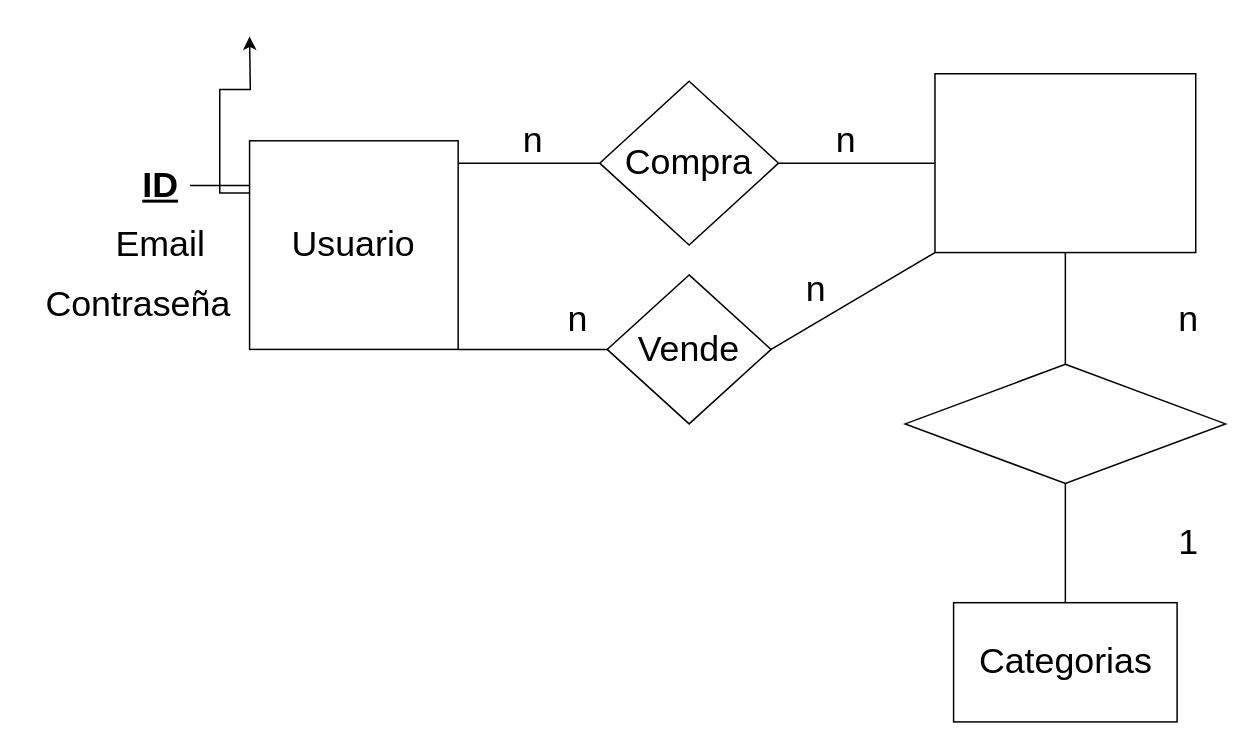
The diagram is 1252 pixels wide and 748 high, and some of its shapes have lost their labels. Each missing label, with the centre of its shape:
"Corresponde" belongs at point 1065,423.
"Productos" belongs at point 1064,162.
